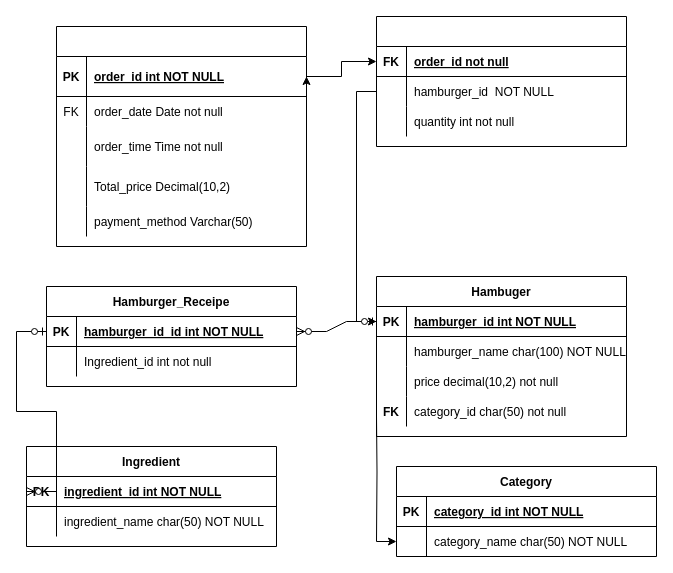
The diagram is 673 pixels wide and 573 high, and some of its shapes have lost their labels. Here are the shapes that lost their labels. From the top down, the box of each, then its label:
(376, 16, 626, 146): Hambuger_Order
(56, 26, 306, 246): Customer_order
